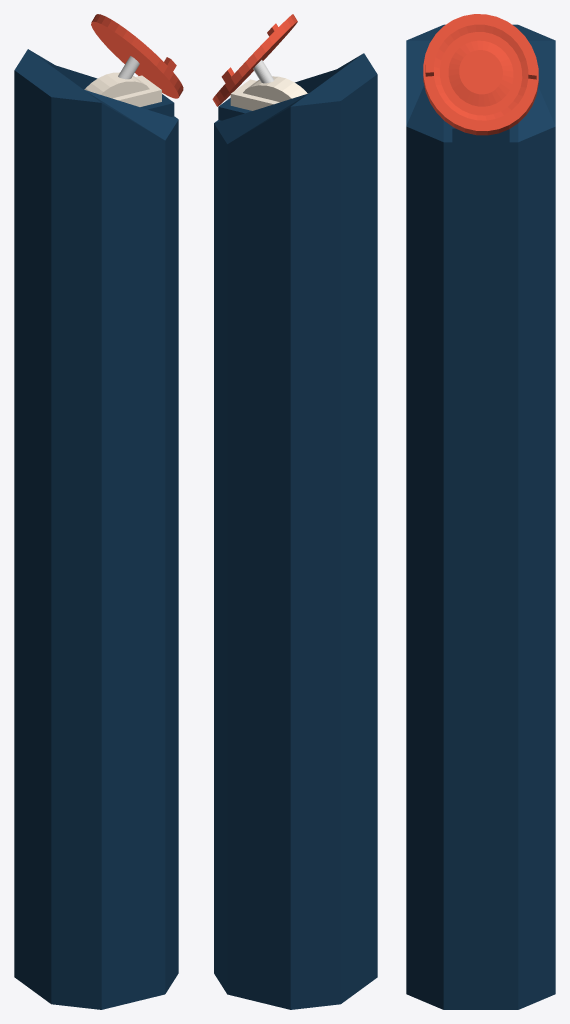
The model's file is Interactionpoint-Disc.fbx.
3 views of the same model, side by side, from view 1: azimuth 30°, elevation 25°; view 2: azimuth 150°, elevation 25°; view 3: azimuth 270°, elevation 25° (orthographic). The views are drawn at different scales.
Visible parts, largest first — view 1: Cube, Cylinder.003, Cube.003; view 2: Cube, Cube.003, Cylinder.003; view 3: Cube, Cylinder.003.
Part boxes in pixels (left/top/right/bottom): Cube: left=14, top=49, right=178, bottom=1009; Cylinder.003: left=91, top=14, right=183, bottom=98; Cube.003: left=84, top=72, right=161, bottom=106; Cube: left=214, top=53, right=377, bottom=1009; Cube.003: left=230, top=76, right=307, bottom=110; Cylinder.003: left=212, top=14, right=297, bottom=106; Cube: left=406, top=24, right=555, bottom=1009; Cylinder.003: left=423, top=14, right=538, bottom=135.
Bounding box in the file's own units: 108 × 716 × 100.
